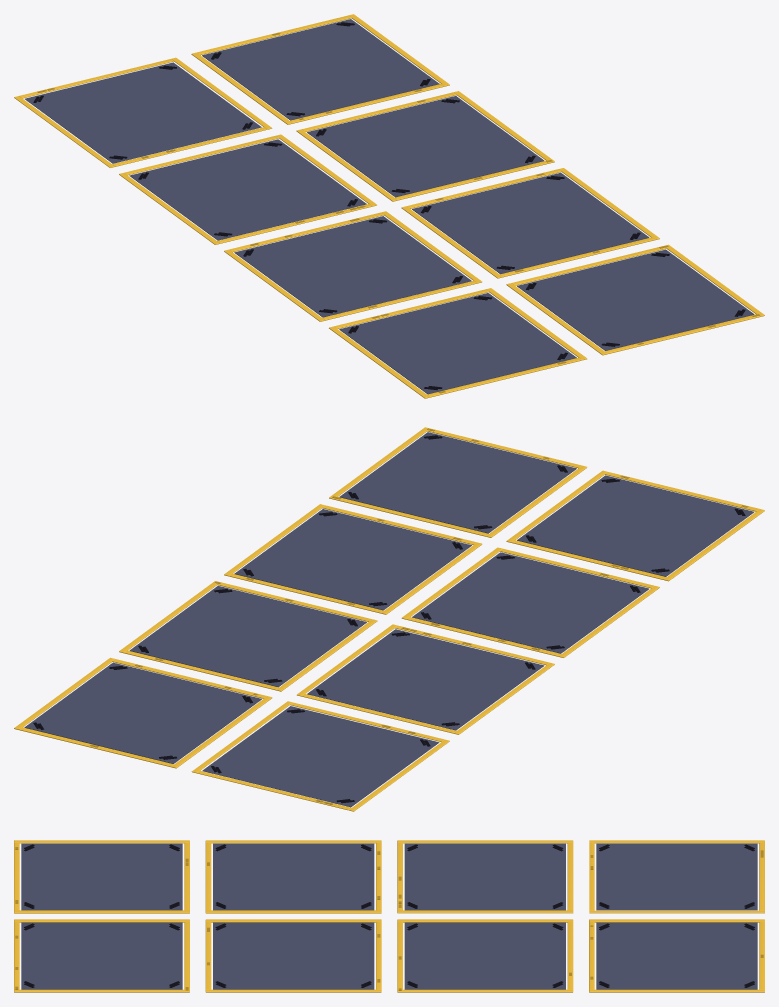
File: SM_Deco_DeliveryBay_Stage4.fbx
3 views of the same model, one above another, from view 1: azimuth 30°, elevation 25°; view 2: azimuth 150°, elevation 25°; view 3: azimuth 270°, elevation 25° (orthographic). The views are drawn at different scales.
Visible parts, largest first — view 1: SM_Deco_DeliveryBay_Stage4; view 2: SM_Deco_DeliveryBay_Stage4; view 3: SM_Deco_DeliveryBay_Stage4.
Part boxes in pixels (left/top/right/bottom): SM_Deco_DeliveryBay_Stage4: left=14, top=14, right=764, bottom=398; SM_Deco_DeliveryBay_Stage4: left=14, top=427, right=764, bottom=811; SM_Deco_DeliveryBay_Stage4: left=14, top=840, right=764, bottom=992.
Size of the model in its own units: 402 by 1.5 by 842.
